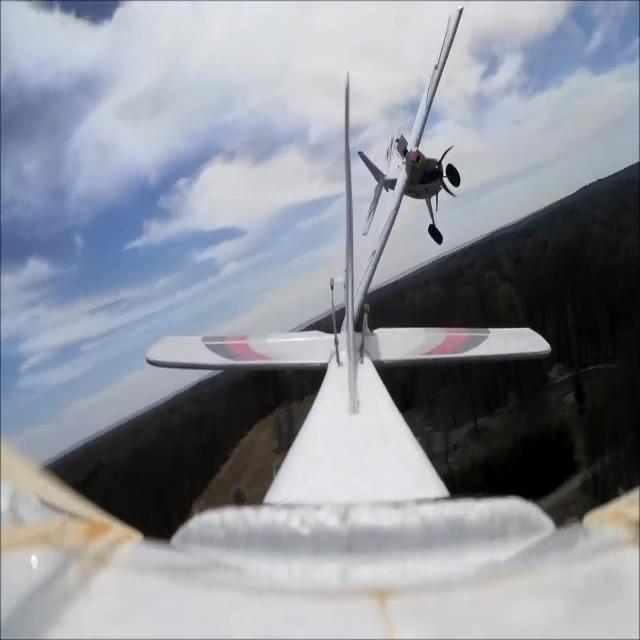iha: (374, 7, 431, 325)
